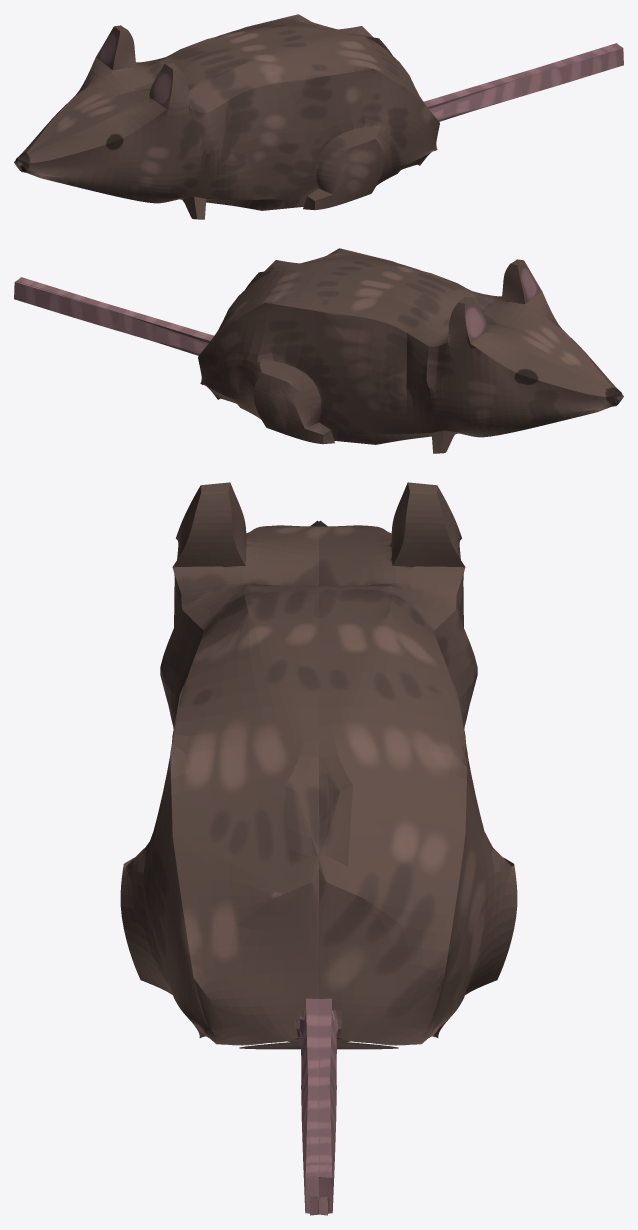
Rendered from rat_colored.fbx.
The picture shows the model from 3 angles, top to bottom: view 1: azimuth 30°, elevation 25°; view 2: azimuth 150°, elevation 25°; view 3: azimuth 270°, elevation 25°; orthographic projection. The views are drawn at different scales.
Visible parts, largest first — view 1: Rotta; view 2: Rotta; view 3: Rotta.
Boxes of the visible parts, <box> form: Rotta: <box>14,14,623,219</box>; Rotta: <box>14,248,623,453</box>; Rotta: <box>120,482,517,1215</box>.
Bounding box in the file's own units: 178 × 49.06 × 50.65.
